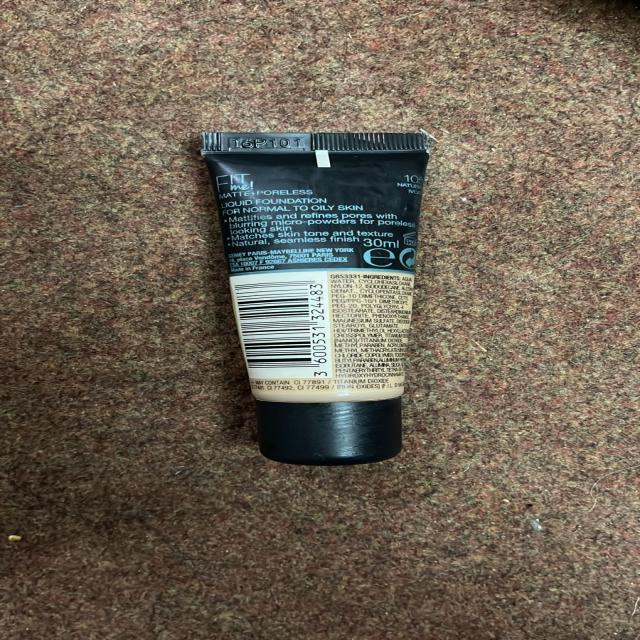bb cream: (182, 123, 451, 471)
